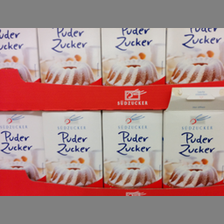tomato_sauce: (164, 103, 223, 191), (102, 112, 163, 188), (42, 111, 103, 187), (101, 28, 165, 86), (37, 28, 101, 85), (167, 28, 224, 86), (1, 112, 43, 179), (1, 29, 38, 82)
